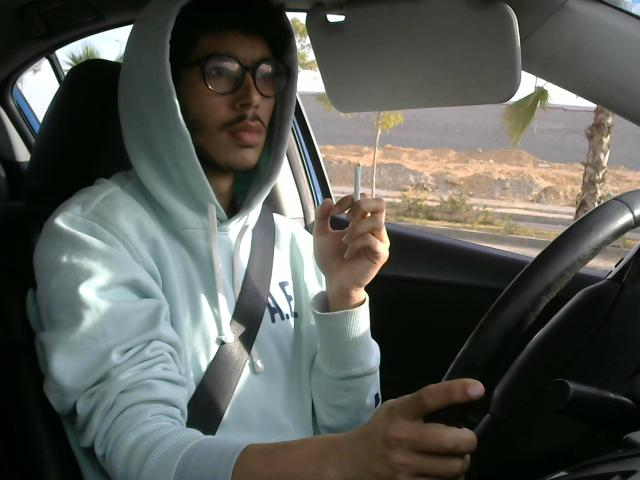Smoking: (348, 157, 365, 228)
